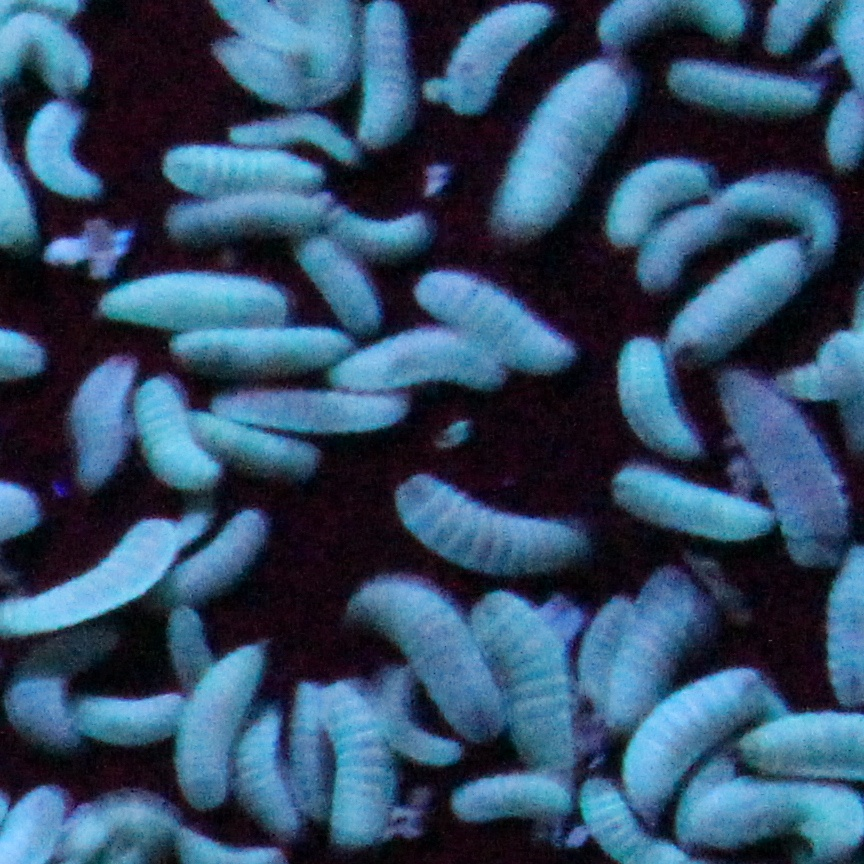larve: (709, 377, 849, 580), (467, 587, 597, 795), (639, 152, 837, 285), (359, 570, 512, 735), (487, 67, 627, 225), (387, 467, 584, 575), (607, 662, 752, 807), (607, 542, 714, 720), (167, 627, 264, 820), (304, 685, 404, 840), (442, 7, 579, 112), (607, 465, 782, 547), (339, 325, 507, 407), (424, 265, 564, 362), (99, 262, 297, 330), (344, 15, 429, 147), (594, 1, 747, 72), (159, 507, 269, 605), (669, 50, 822, 120), (174, 410, 322, 480), (617, 340, 704, 457), (209, 32, 327, 115), (239, 717, 312, 847), (212, 385, 407, 432), (129, 380, 214, 485), (174, 187, 332, 242), (77, 367, 152, 482), (607, 155, 699, 245), (69, 692, 197, 755), (744, 712, 857, 782), (174, 150, 324, 202), (14, 670, 102, 755), (34, 107, 112, 197), (767, 2, 842, 70)
